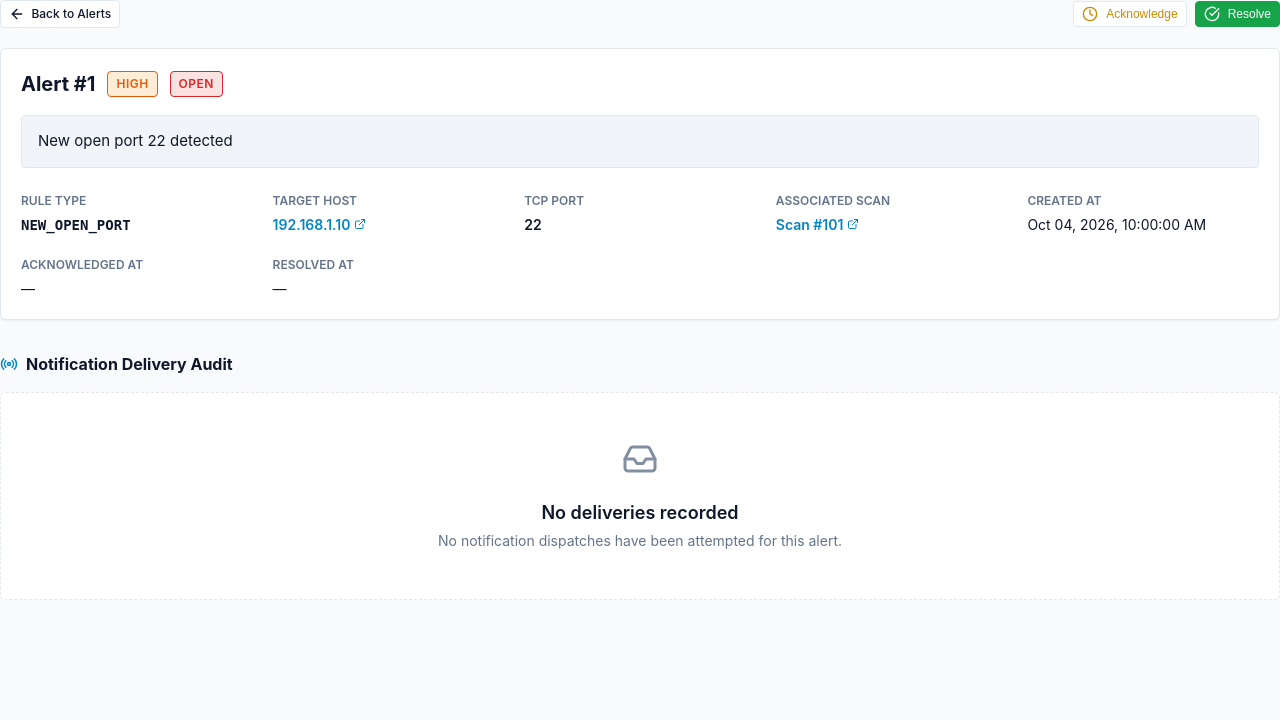
Alerts Page & Triage Flows › handles HTTP 409 conflict gracefully during mutation
Expected: the heading "Alert #1" is shown, [21,69,96,99]
Click the button "Acknowledge" at (1130, 14), box [1073,1,1187,27]
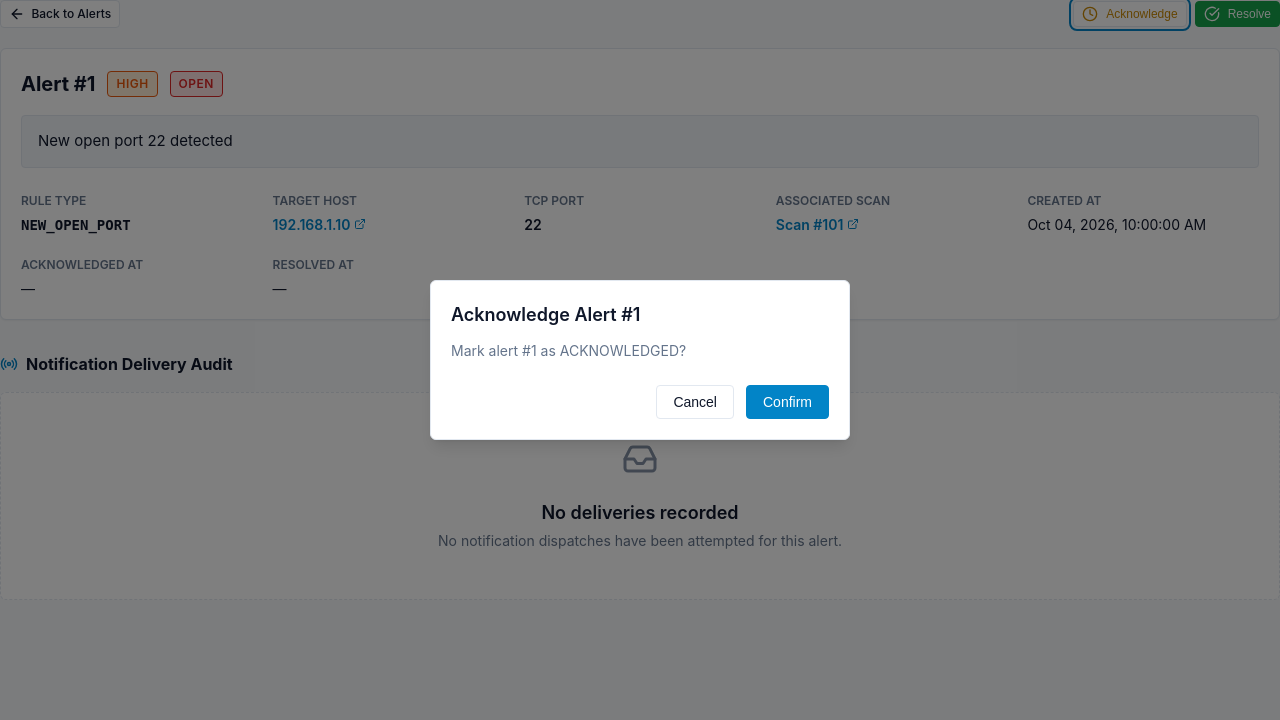
Click the button "Confirm" at (788, 402), box [746,385,829,419]
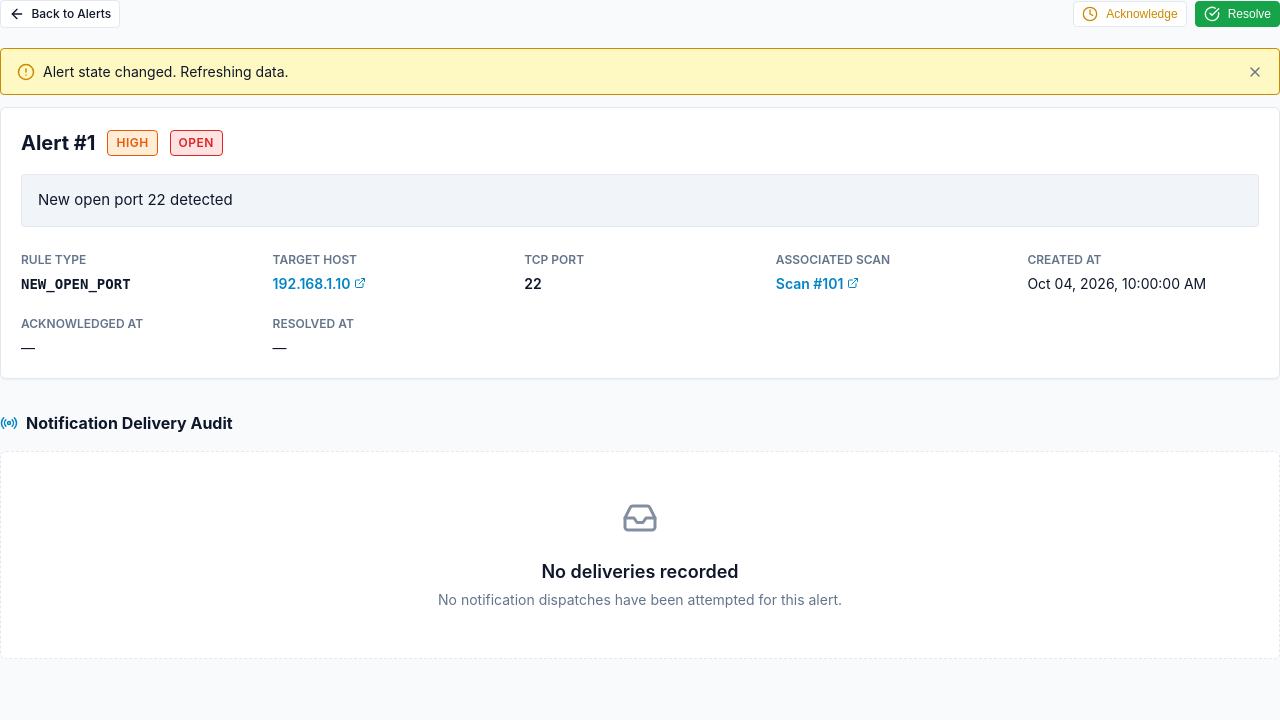
Expected: the text "Alert state changed. Refreshing data." is shown, [43,61,288,82]
